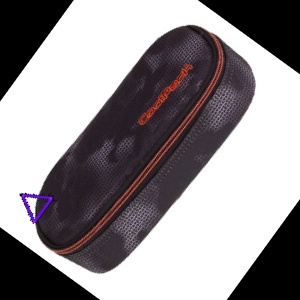triangle: (18, 190, 56, 226)
